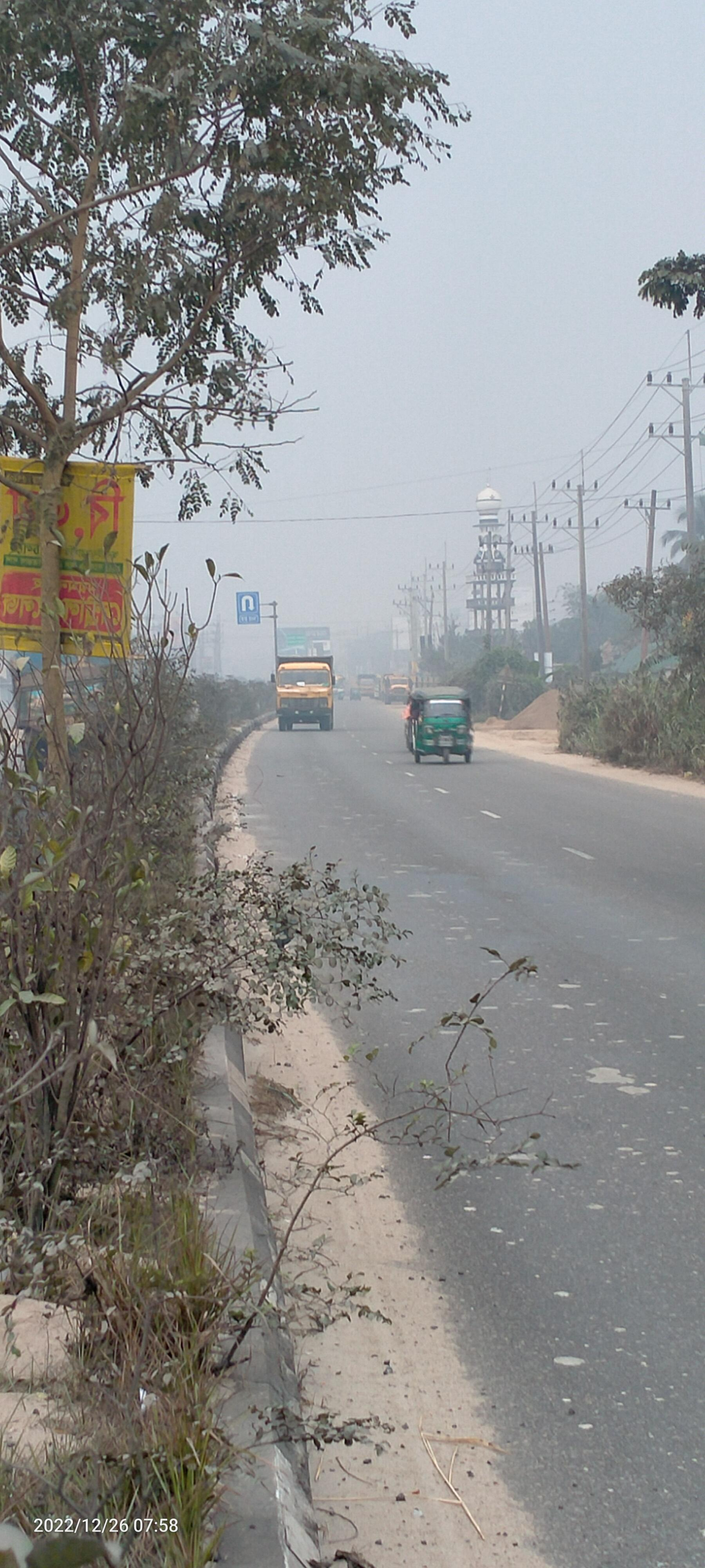Truck: (264, 645, 346, 743)
